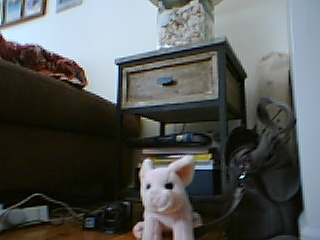piggy: (131, 154, 197, 240)
